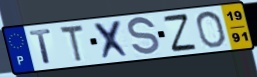O: (194, 9, 228, 49)
S: (126, 15, 162, 58)
T: (58, 23, 85, 63), (28, 28, 54, 66)
X: (92, 19, 133, 61)
Z: (161, 12, 199, 53)
